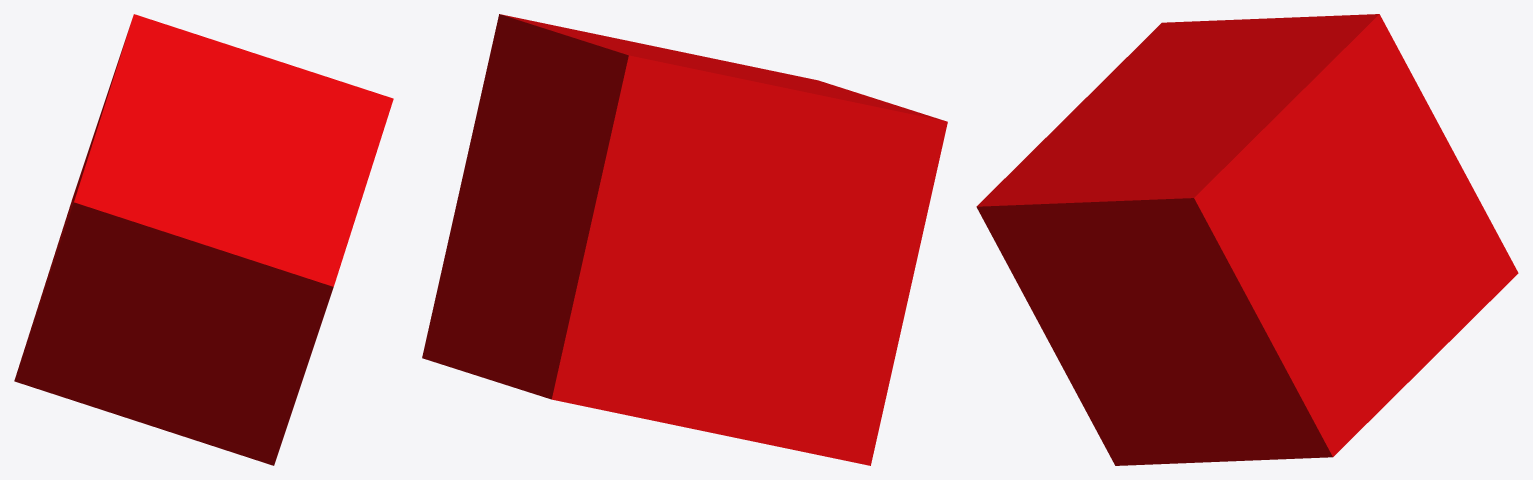
File: asset.glb
The picture shows the model from 3 angles, left to right: view 1: azimuth 30°, elevation 25°; view 2: azimuth 150°, elevation 25°; view 3: azimuth 270°, elevation 25°; orthographic projection. The views are drawn at different scales.
Parts seen in each view (by area): view 1: Cube; view 2: Cube; view 3: Cube.
Part boxes in pixels (box(x1,y1,x2,y2)): Cube: box(14, 14, 393, 465); Cube: box(422, 14, 947, 465); Cube: box(976, 14, 1518, 465).
Bounding box in the file's own units: 2.39 × 2.57 × 2.89.
